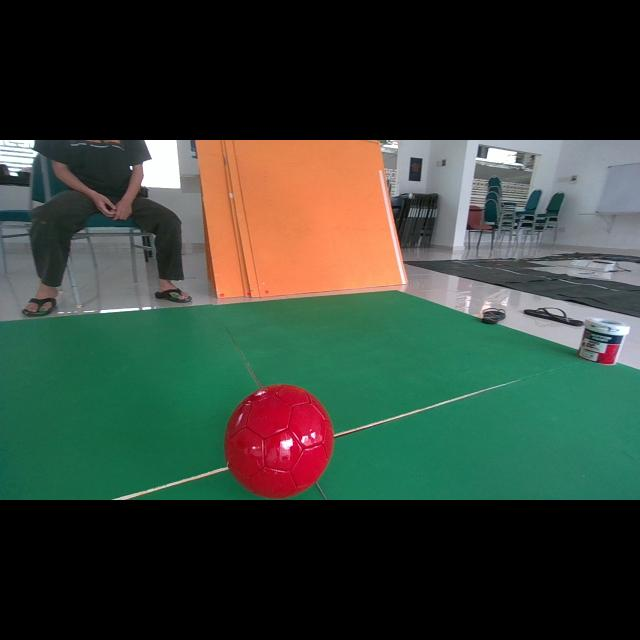R: (225, 385, 334, 499)
